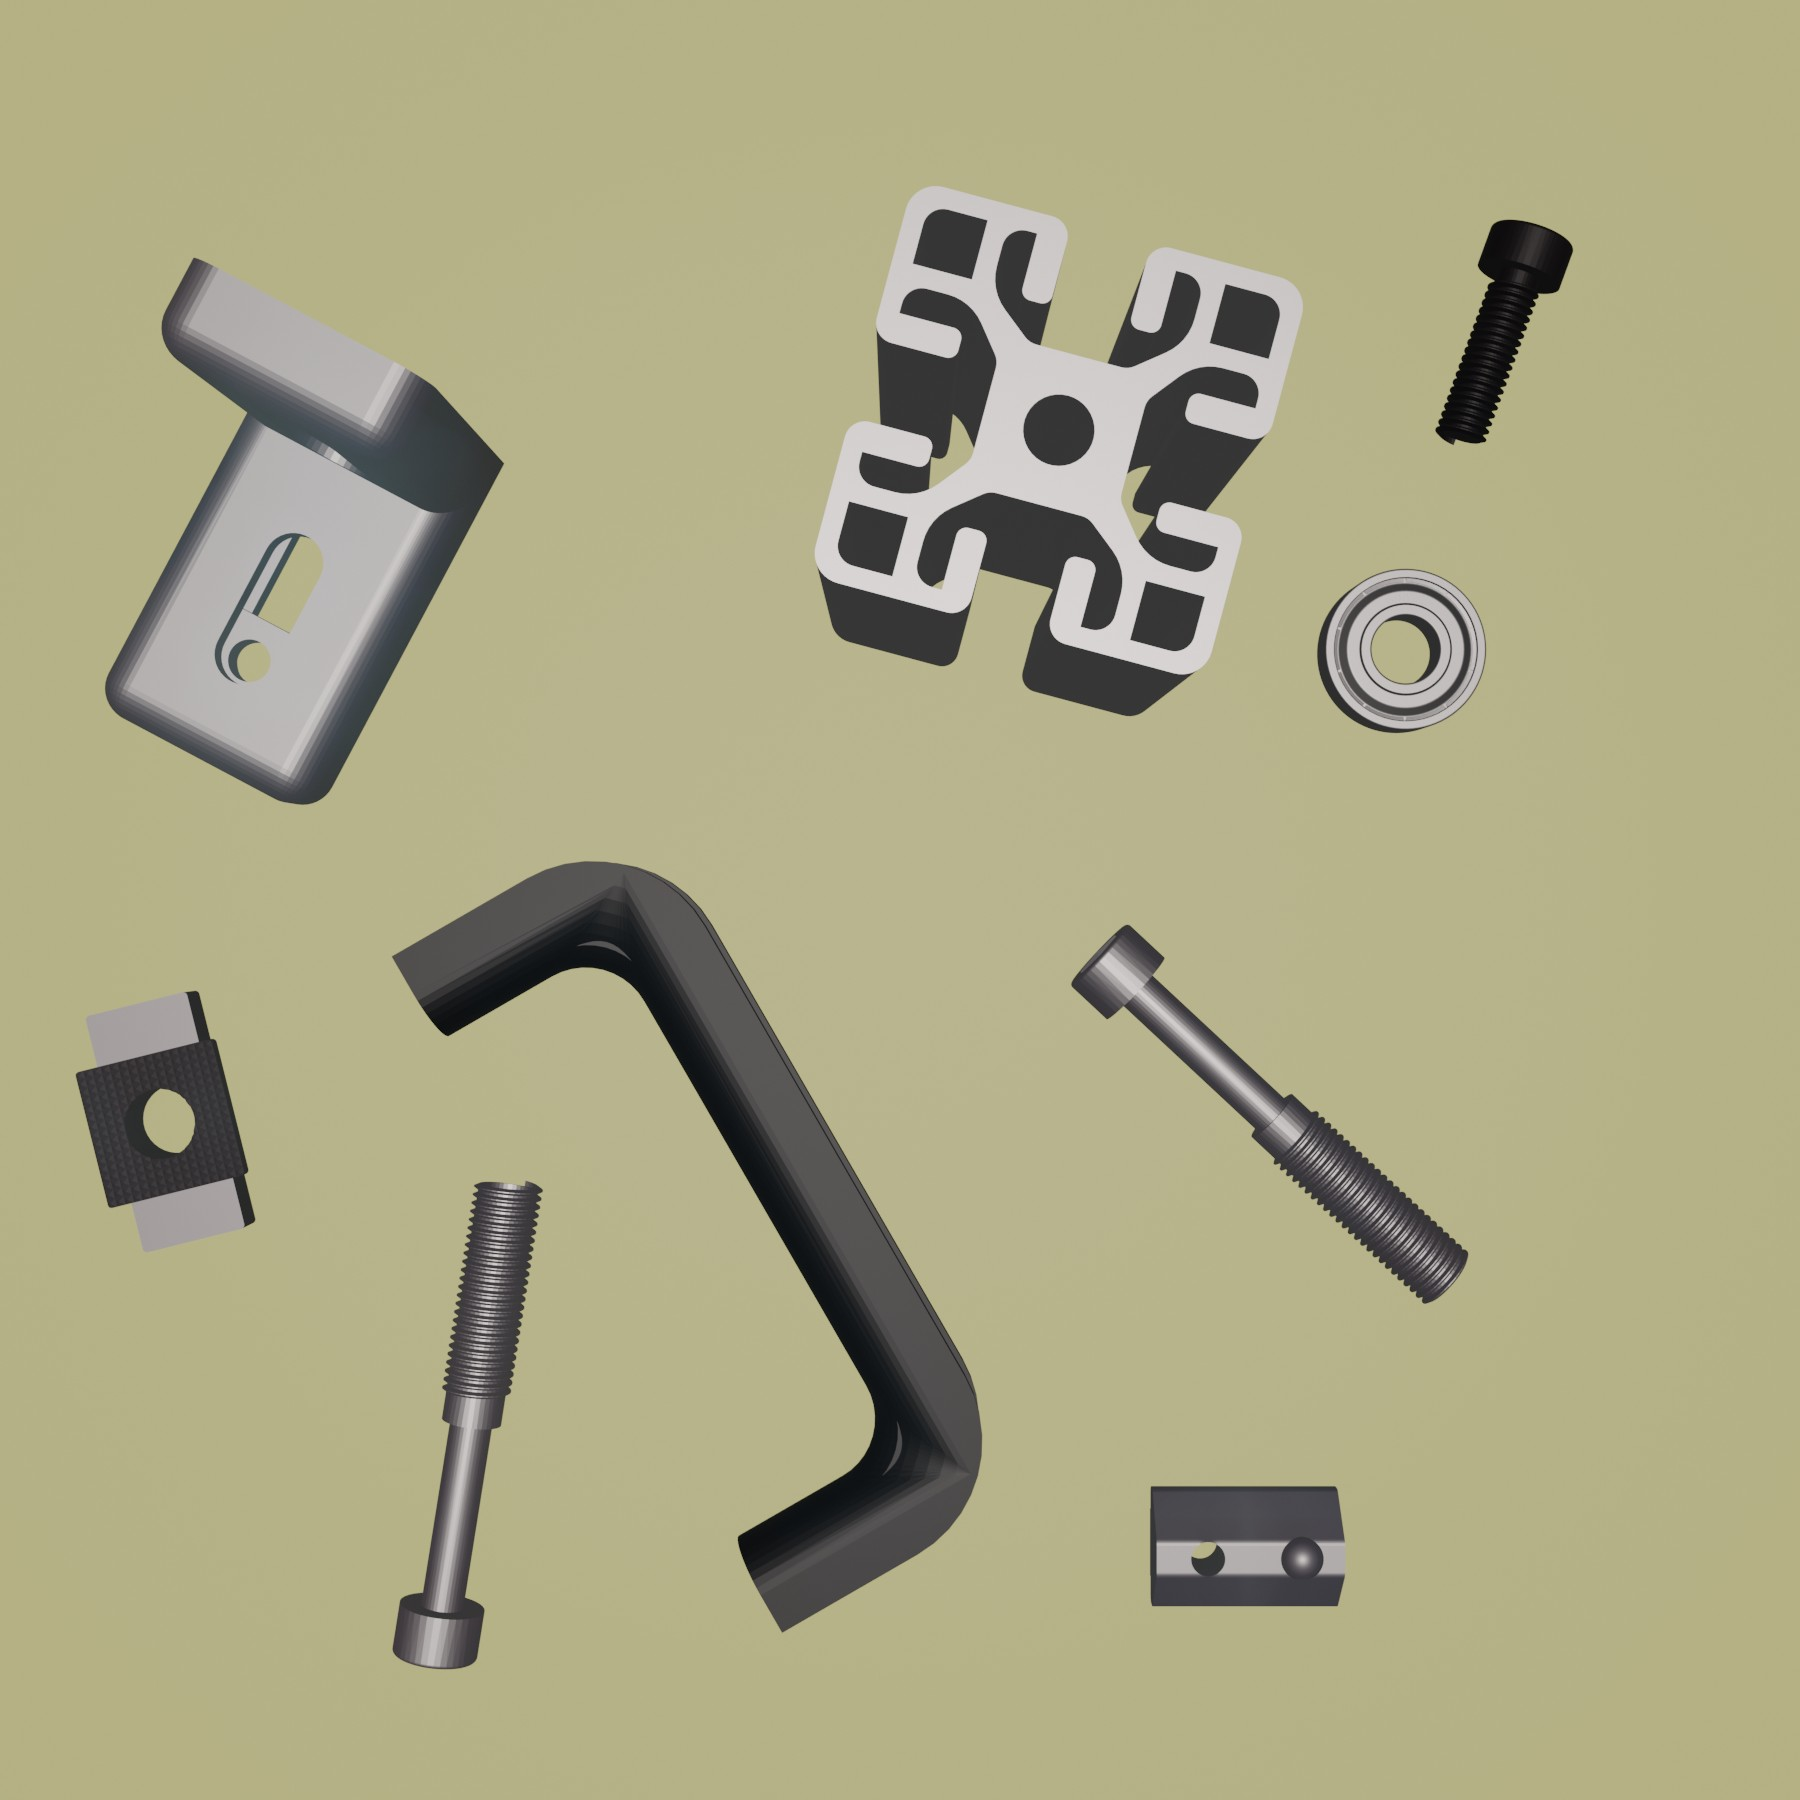Aluminium Extension: (811, 181, 1305, 719)
Ball Bearing: (1315, 564, 1488, 735)
Multiwinkel: (104, 252, 506, 808)
Pull Handle: (387, 857, 986, 1635)
Shoulder Socket Head Cap Screw: (1066, 920, 1470, 1309), (392, 1174, 546, 1671)
Socket Head Cap Screw: (1431, 216, 1574, 450)
T Nut Square: (69, 986, 259, 1254)
T Spring Nut: (1147, 1480, 1350, 1612)
